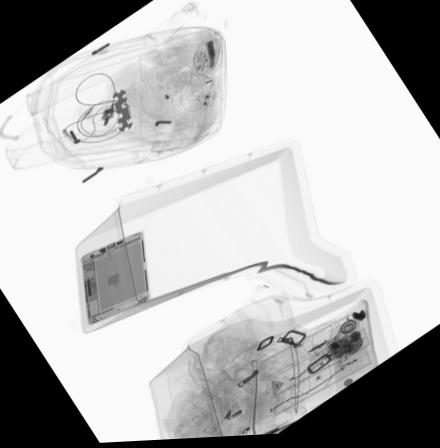Lighter: (334, 341, 346, 372)
